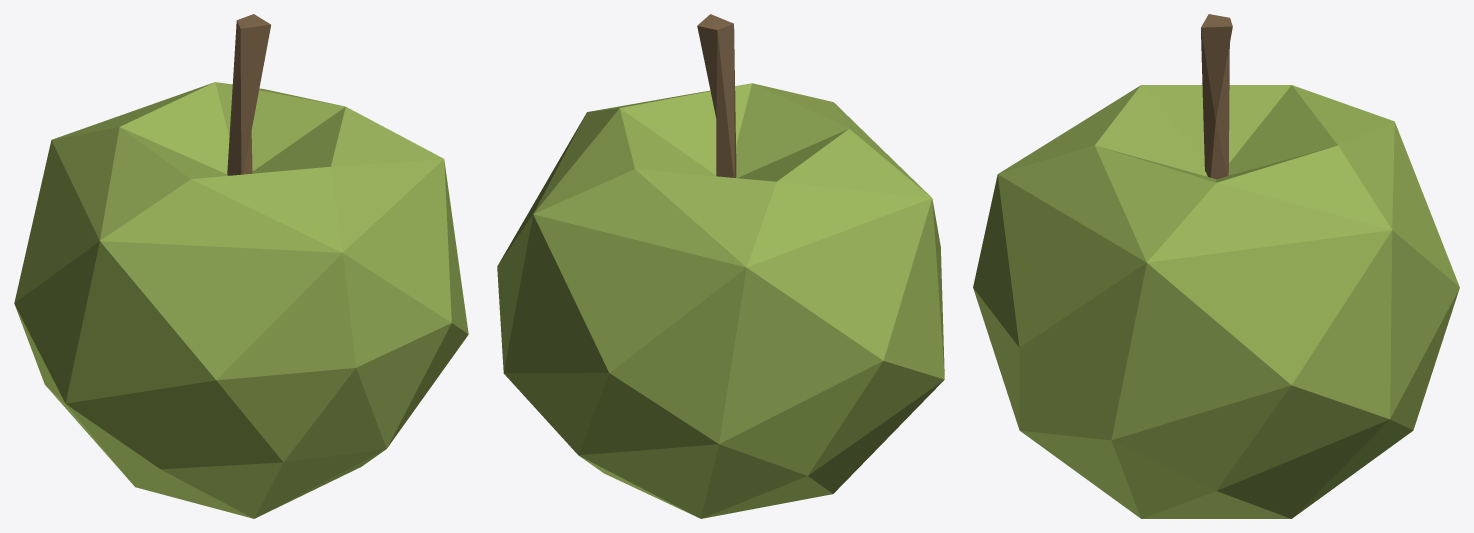
The model's file is Apple_03.fbx.
3 renders of one model, left to right at view 1: azimuth 30°, elevation 25°; view 2: azimuth 150°, elevation 25°; view 3: azimuth 270°, elevation 25°, orthographic. The views are drawn at different scales.
Parts seen in each view (by area): view 1: Apple_03; view 2: Apple_03; view 3: Apple_03.
Part boxes in pixels (x1,y1,x2,y2): Apple_03: (14, 14, 468, 518); Apple_03: (497, 14, 944, 518); Apple_03: (973, 14, 1459, 518).
Bounding box in the file's own units: 11.67 × 13.5 × 12.12.
